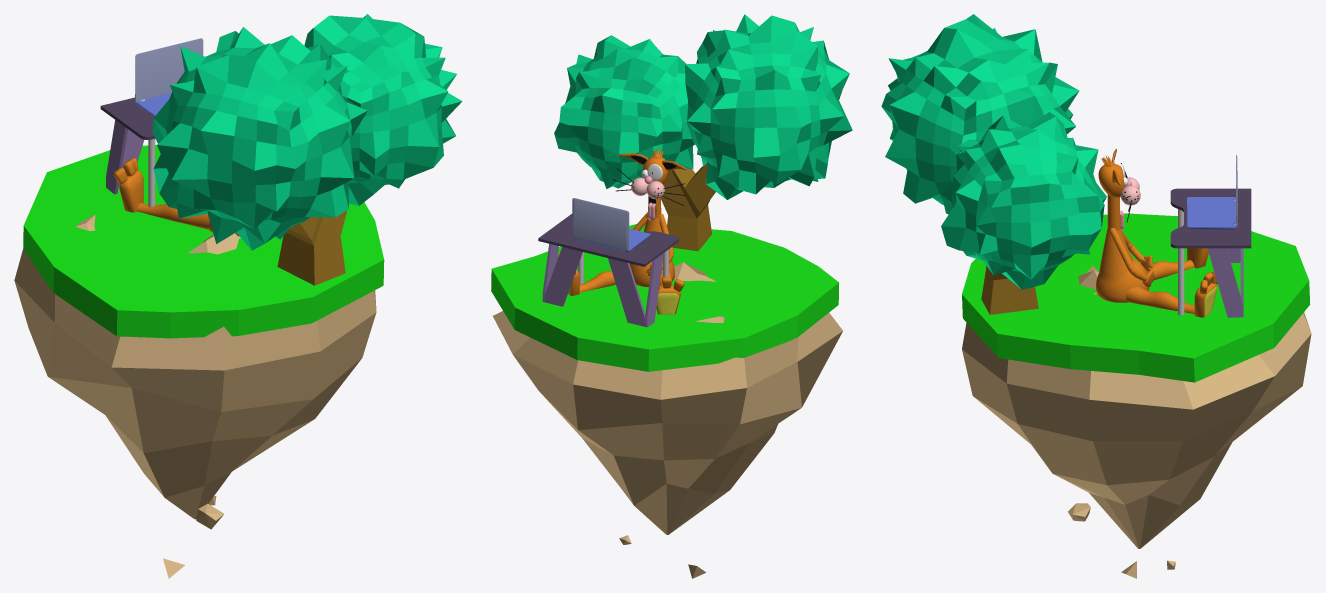
3 views of the same model, side by side, from view 1: azimuth 30°, elevation 25°; view 2: azimuth 150°, elevation 25°; view 3: azimuth 270°, elevation 25° (orthographic). The views are drawn at different scales.
Parts seen in each view (by area): view 1: Tree, Island, Green_platform, Lowpoly_Notebook, felix, walls, table_top; view 2: Tree, Island, Green_platform, felix, walls, Lowpoly_Notebook, table_top; view 3: Tree, Island, Green_platform, felix, table_top, Lowpoly_Notebook, walls, tube.
Part boxes in pixels (x1,y1,x2,y2): Tree: [153, 14, 462, 285]; Island: [14, 214, 376, 578]; Green_platform: [23, 145, 384, 338]; Lowpoly_Notebook: [135, 38, 203, 116]; felix: [113, 158, 238, 236]; walls: [106, 120, 143, 194]; table_top: [100, 97, 155, 139]; Tree: [554, 14, 852, 251]; Island: [493, 262, 842, 578]; Green_platform: [491, 224, 838, 371]; felix: [557, 148, 686, 314]; walls: [542, 243, 663, 327]; Lowpoly_Notebook: [572, 198, 650, 252]; table_top: [538, 214, 678, 266]; Tree: [881, 14, 1106, 314]; Island: [962, 266, 1311, 578]; Green_platform: [962, 213, 1310, 382]; felix: [1095, 149, 1217, 317]; table_top: [1170, 188, 1251, 248]; Lowpoly_Notebook: [1187, 155, 1237, 229]; walls: [1207, 248, 1243, 317]; tube: [1178, 209, 1184, 315].
Size of the model in its own units: 11.85 by 20.06 by 14.19.
Materials: 16 (1 with a texture image).
